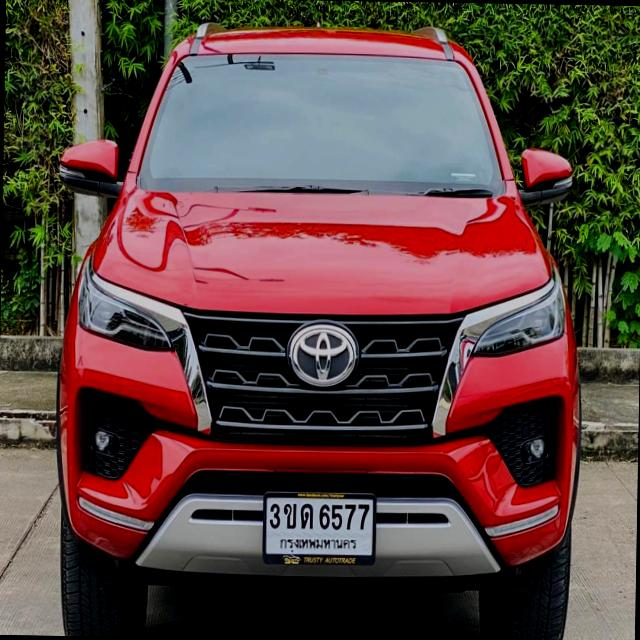license_plate: (260, 484, 377, 570)
